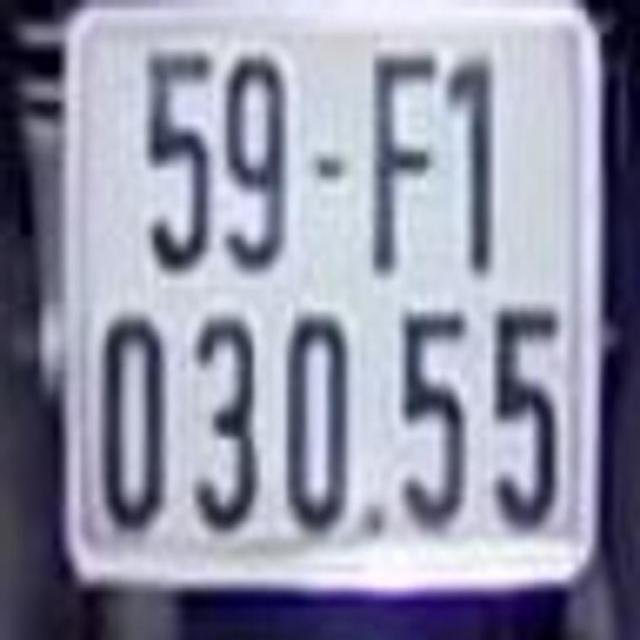0: (280, 301, 354, 530), (99, 306, 165, 533)
1: (447, 51, 505, 276)
3: (184, 306, 262, 529)
5: (393, 303, 471, 530), (142, 41, 213, 280), (490, 296, 561, 528)
9: (220, 45, 288, 278)
F: (362, 42, 437, 274)
